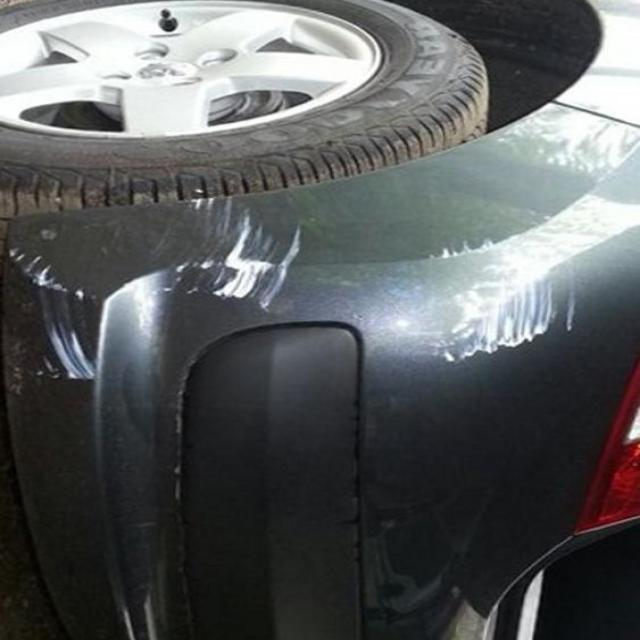scratch: (0, 190, 315, 406), (394, 213, 594, 370)
